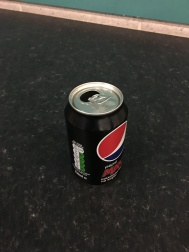can_black: (60, 75, 132, 190)
